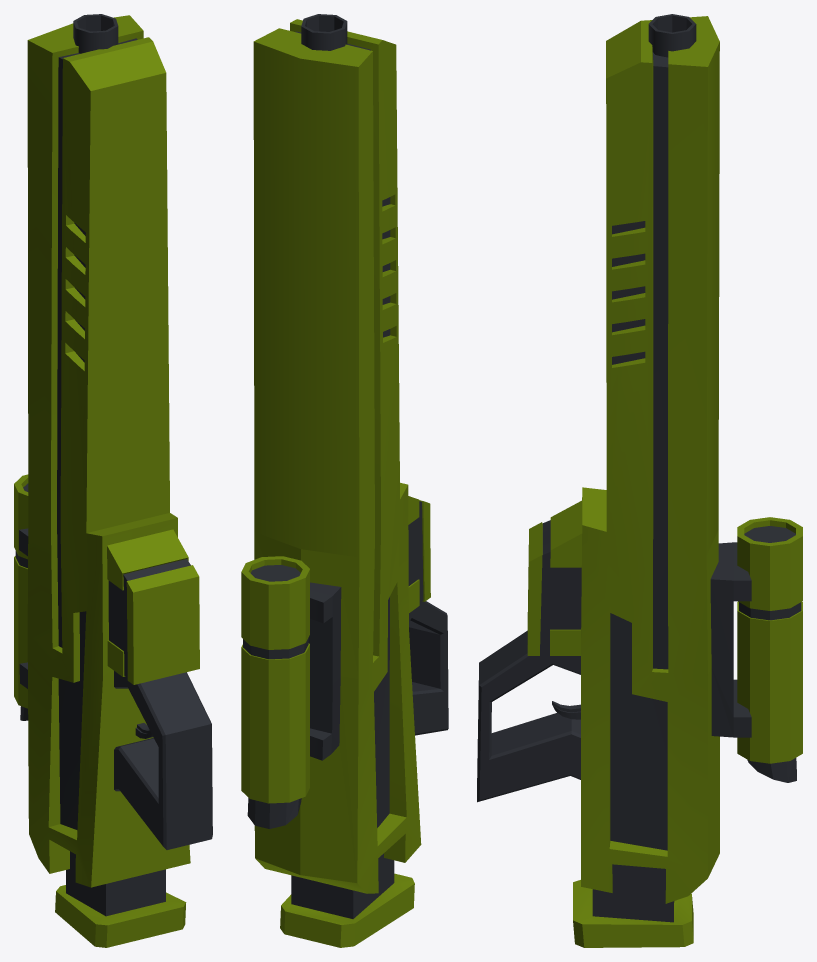
File: low poly scifi gun049.fbx
The picture shows the model from 3 angles, left to right: view 1: azimuth 30°, elevation 25°; view 2: azimuth 150°, elevation 25°; view 3: azimuth 270°, elevation 25°; orthographic projection. The views are drawn at different scales.
Visible parts, largest first — view 1: low poly scifi gun049; view 2: low poly scifi gun049; view 3: low poly scifi gun049.
Boxes of the visible parts, x1,y1,x2,y2 form: low poly scifi gun049: [14, 14, 212, 947]; low poly scifi gun049: [241, 14, 448, 947]; low poly scifi gun049: [477, 14, 802, 947].
Size of the model in its own units: 3.2 by 26.48 by 8.64.
